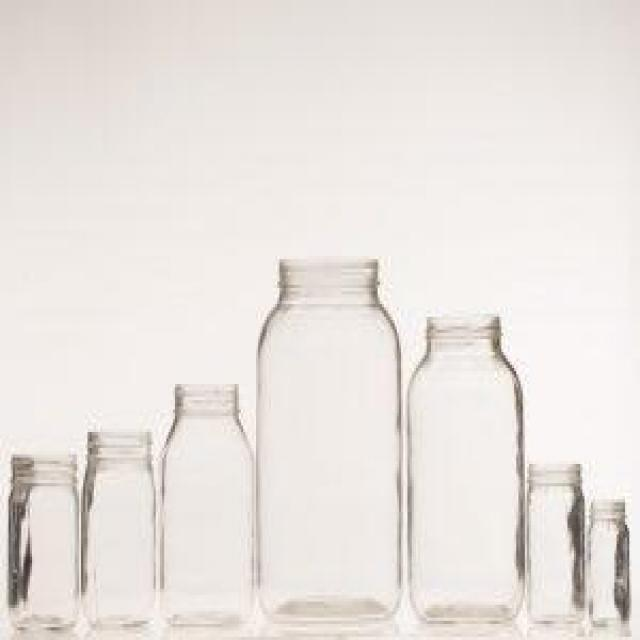non-organic waste: (256, 254, 405, 629), (8, 448, 82, 640)
